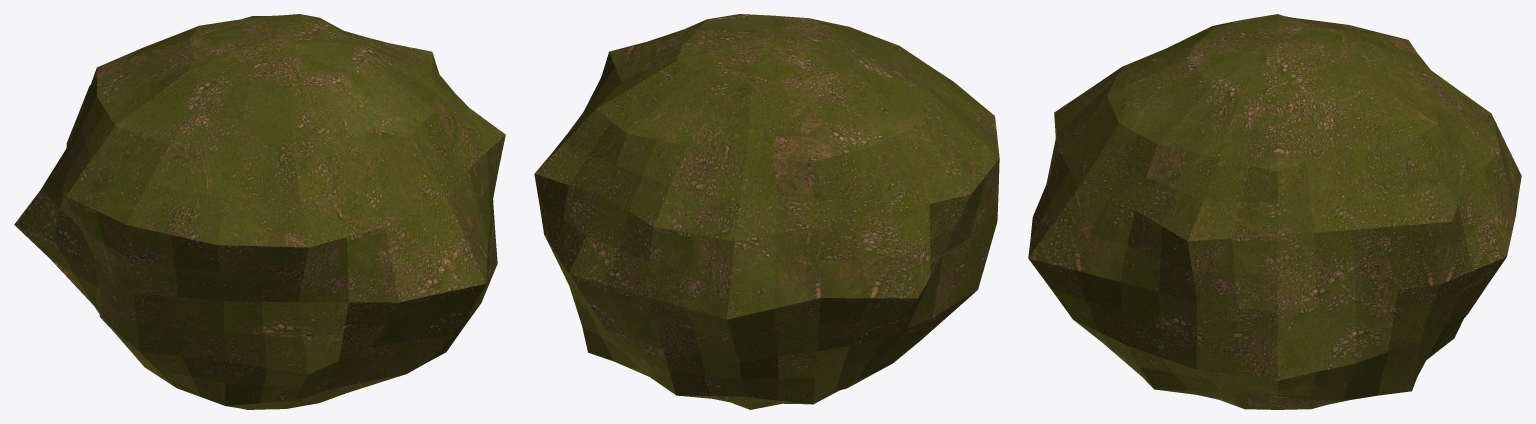
File: round_2.glb
3 renders of one model, left to right at view 1: azimuth 30°, elevation 25°; view 2: azimuth 150°, elevation 25°; view 3: azimuth 270°, elevation 25°, orthographic.
Visible parts, largest first — view 1: round; view 2: round; view 3: round.
Boxes of the visible parts, x1,y1,x2,y2 form: round: (14, 14, 505, 409); round: (534, 14, 999, 409); round: (1028, 14, 1521, 409).
Bounding box in the file's own units: 1.88 × 1.51 × 1.96.
1 material, 1 textured.
